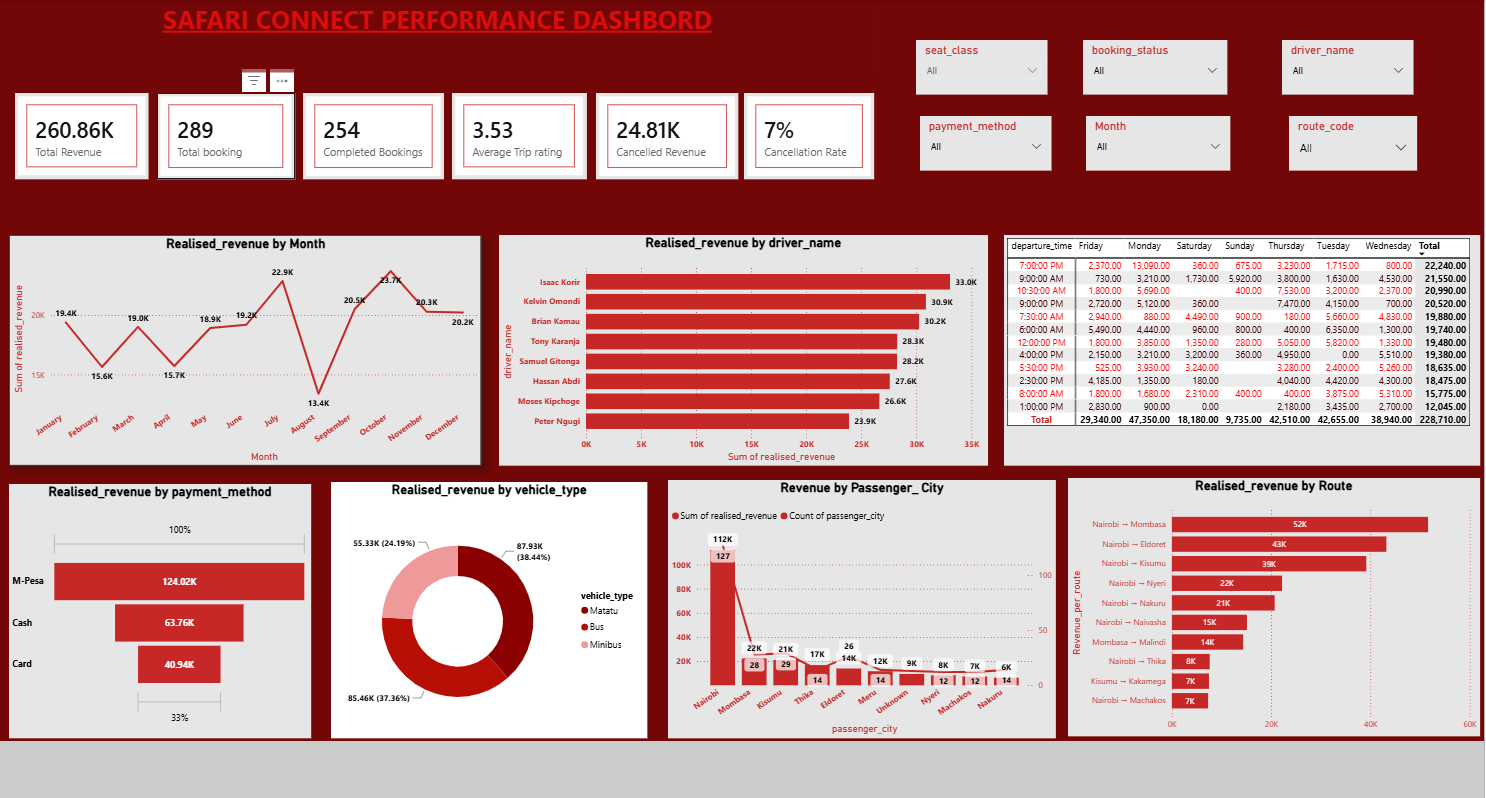

This screenshot's page, from the dashboard's own definition file:
{"tool":"powerbi","page":{"name":"DASHBOARD","canvas":[2200,1100],"ordinal":0},"visuals":[{"type":"cardVisual","fields":{"Data":["safariconnect v_clean_trips.Total Revenue"]},"box":[22.7,139.4,198.2,127.7],"z":0},{"type":"cardVisual","fields":{"Data":["safariconnect v_clean_trips.Total booking"]},"box":[233.1,139.1,204.7,128.2],"z":1000},{"type":"cardVisual","fields":{"Data":["safariconnect v_clean_trips.Completed Bookings"]},"box":[449,139.1,209.2,128.2],"z":2000},{"type":"cardVisual","fields":{"Data":["safariconnect v_clean_trips.Average Trip rating"]},"box":[669.5,139.4,199.9,127.7],"z":3000},{"type":"cardVisual","fields":{"Data":["safariconnect v_clean_trips.Cancellation Rate"]},"box":[1103.4,139.1,193.4,128.2],"z":4000},{"type":"cardVisual","fields":{"Data":["safariconnect v_clean_trips.Cancelled Revenue"]},"box":[883,139.1,211.4,128.2],"z":5000},{"type":"slicer","fields":{"Values":["safariconnect v_clean_trips.route_code"]},"box":[1911.5,173.7,190,81.4],"z":6000},{"type":"slicer","fields":{"Values":["safariconnect v_clean_trips.departure_date.Variation.Date Hierarchy.Month"]},"box":[1610.2,173.7,214.4,81.4],"z":7000},{"type":"slicer","fields":{"Values":["safariconnect v_clean_trips.payment_method"]},"box":[1363.3,173.7,195.4,81.4],"z":8000},{"type":"slicer","fields":{"Values":["safariconnect v_clean_trips.driver_name"]},"box":[1900.6,61.5,195.4,81.4],"z":9000},{"type":"slicer","fields":{"Values":["safariconnect v_clean_trips.booking_status"]},"box":[1604.8,61.5,214.4,81.4],"z":10000},{"type":"slicer","fields":{"Values":["safariconnect v_clean_trips.seat_class"]},"box":[1357.8,61.5,195.4,81.4],"z":11000},{"type":"lineChart","title":"Realised_revenue by Month","fields":{"Category":["safariconnect v_clean_trips.departure_date.Variation.Date Hierarchy.Month"],"Y":["Sum(safariconnect v_clean_trips.realised_revenue)"]},"box":[12.7,349.2,700.2,341.9],"z":12000},{"type":"funnel","title":"Realised_revenue by payment_method","fields":{"Category":["safariconnect v_clean_trips.payment_method"],"Y":["Sum(safariconnect v_clean_trips.realised_revenue)"]},"box":[12.7,718.3,447.8,377.2],"z":13000},{"type":"clusteredBarChart","title":"Realised_revenue by driver_name","fields":{"Category":["safariconnect v_clean_trips.driver_name"],"Y":["Sum(safariconnect v_clean_trips.realised_revenue)"]},"box":[740,349.2,724.6,341.9],"z":14000},{"type":"lineClusteredColumnComboChart","title":"Revenue by Passenger_ City","fields":{"Category":["safariconnect v_clean_trips.passenger_city"],"Y":["Sum(safariconnect v_clean_trips.realised_revenue)"],"Y2":["CountNonNull(safariconnect v_clean_trips.passenger_city)"]},"box":[989.7,712.8,575.3,382.7],"z":15000},{"type":"textbox","box":[0,0,1297.2,108.6],"z":16000},{"type":"donutChart","title":"Realised_revenue by vehicle_type","fields":{"Category":["safariconnect v_clean_trips.vehicle_type"],"Y":["Sum(safariconnect v_clean_trips.realised_revenue)"]},"box":[490.3,715.6,469.5,379.9],"z":17000},{"type":"clusteredBarChart","title":"Realised_revenue by Route","fields":{"Category":["safariconnect v_clean_trips.Route_complete"],"Y":["Sum(safariconnect v_clean_trips.realised_revenue)"]},"box":[1584,710.1,610.6,382.7],"z":18000},{"type":"pivotTable","fields":{"Columns":["safariconnect v_clean_trips.Day of Week"],"Rows":["safariconnect v_clean_trips.departure_time"],"Values":["Sum(safariconnect v_clean_trips.realised_revenue)"]},"box":[1489,349.2,705.6,341.9],"z":19000}]}

Visuals, with their boxes in screenshot pixels (x1, y1, x2, y2):
cardVisual - safariconnect v_clean_trips.Total Revenue: crop(19, 93, 151, 178)
cardVisual - safariconnect v_clean_trips.Total booking: crop(159, 93, 295, 178)
cardVisual - safariconnect v_clean_trips.Completed Bookings: crop(303, 93, 442, 178)
cardVisual - safariconnect v_clean_trips.Average Trip rating: crop(450, 93, 583, 178)
cardVisual - safariconnect v_clean_trips.Cancellation Rate: crop(739, 93, 868, 178)
cardVisual - safariconnect v_clean_trips.Cancelled Revenue: crop(592, 93, 733, 178)
slicer - safariconnect v_clean_trips.route_code: crop(1277, 116, 1404, 170)
slicer - safariconnect v_clean_trips.departure_date.Variation.Date Hierarchy.Month: crop(1076, 116, 1219, 170)
slicer - safariconnect v_clean_trips.payment_method: crop(912, 116, 1042, 170)
slicer - safariconnect v_clean_trips.driver_name: crop(1270, 41, 1400, 95)
slicer - safariconnect v_clean_trips.booking_status: crop(1073, 41, 1216, 95)
slicer - safariconnect v_clean_trips.seat_class: crop(908, 41, 1038, 95)
"Realised_revenue by Month" lineChart: crop(12, 233, 479, 460)
"Realised_revenue by payment_method" funnel: crop(12, 478, 311, 730)
"Realised_revenue by driver_name" clusteredBarChart: crop(497, 233, 979, 460)
"Revenue by Passenger_ City" lineClusteredColumnComboChart: crop(663, 475, 1046, 730)
textbox: crop(4, 0, 868, 72)
"Realised_revenue by vehicle_type" donutChart: crop(330, 477, 643, 730)
"Realised_revenue by Route" clusteredBarChart: crop(1059, 473, 1466, 728)
pivotTable - safariconnect v_clean_trips.Day of Week x safariconnect v_clean_trips.departure_time: crop(996, 233, 1466, 460)
